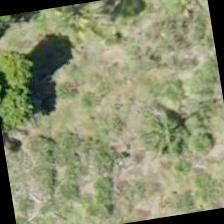Kelapa_Sawit: (19, 0, 118, 71)
